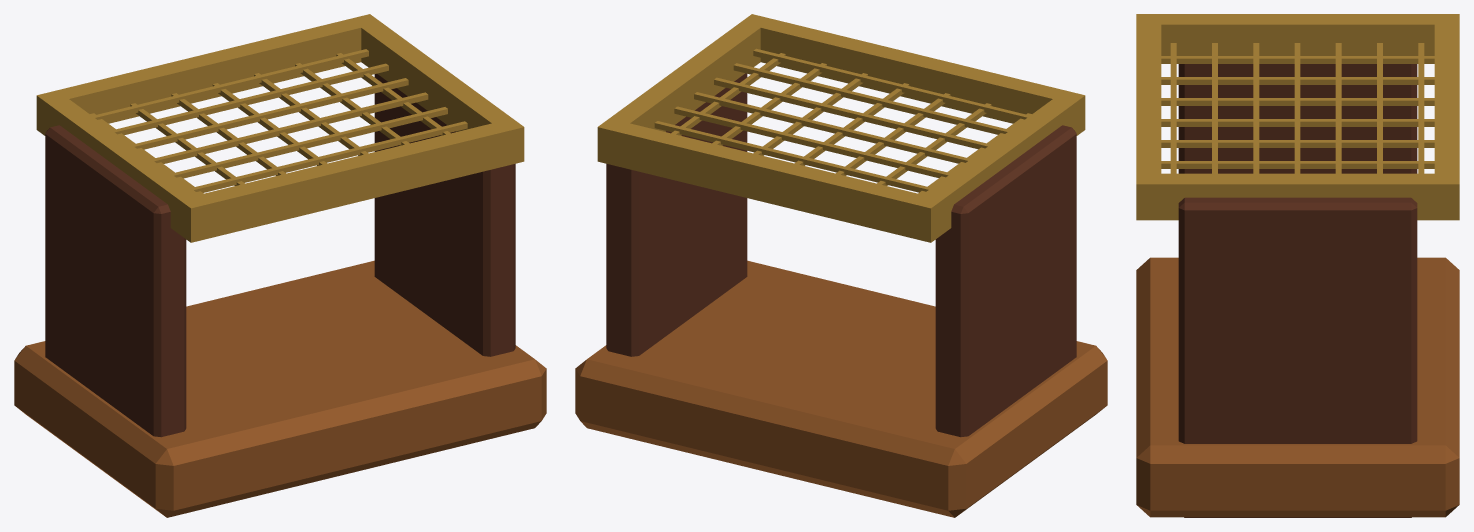
Rendered from sieve.glb.
The picture shows the model from 3 angles, left to right: view 1: azimuth 30°, elevation 25°; view 2: azimuth 150°, elevation 25°; view 3: azimuth 270°, elevation 25°; orthographic projection. The views are drawn at different scales.
Visible parts, largest first — view 1: Body_mesh, Screen_mesh; view 2: Body_mesh, Screen_mesh; view 3: Body_mesh, Screen_mesh.
Boxes of the visible parts, x1,y1,x2,y2 form: Body_mesh: [14, 73, 546, 517]; Screen_mesh: [36, 14, 524, 242]; Body_mesh: [575, 73, 1107, 517]; Screen_mesh: [597, 14, 1085, 242]; Body_mesh: [1136, 64, 1459, 517]; Screen_mesh: [1136, 14, 1459, 220].
Size of the model in its own units: 0.95 by 0.73 by 0.65.
